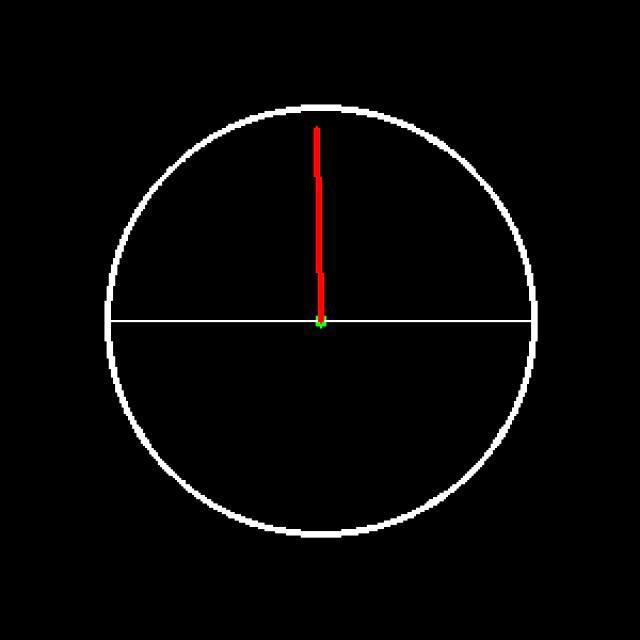Needle_Tip: (297, 109, 338, 184)
Needle_base: (285, 292, 362, 355)
